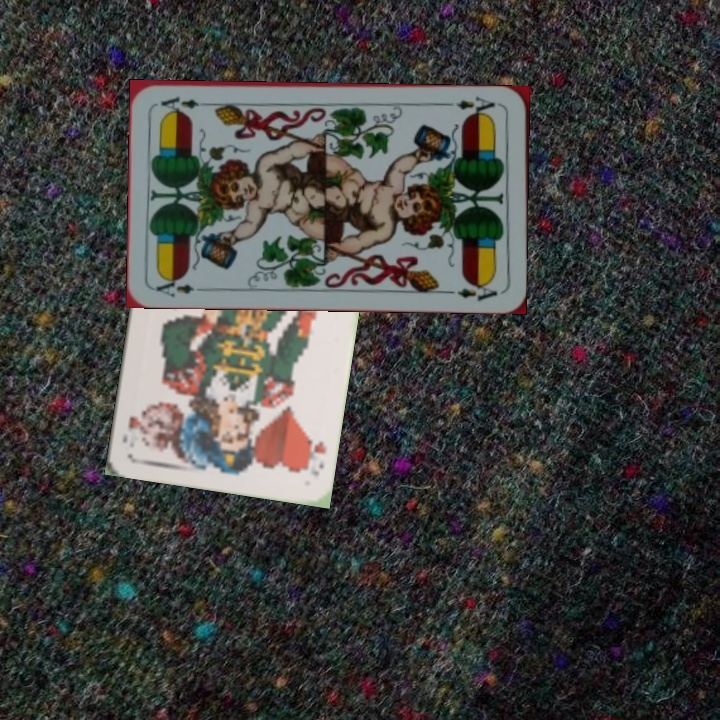EA: (151, 273, 210, 300), (444, 92, 497, 119)
HO: (300, 431, 329, 479)
